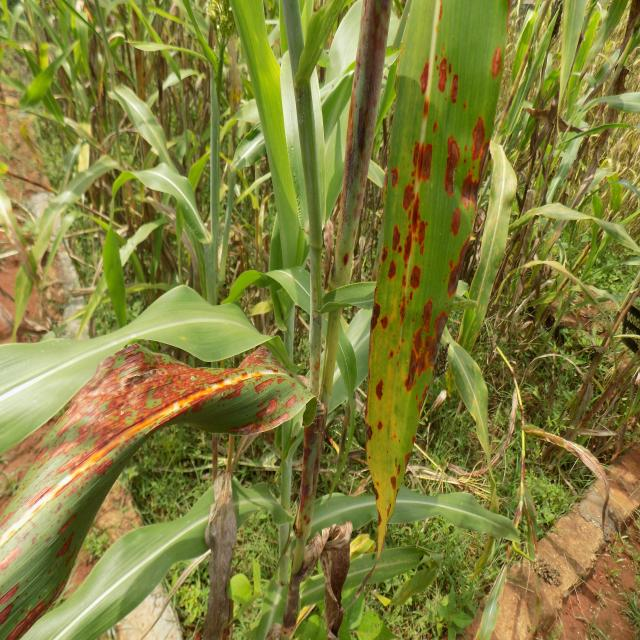millet_healthy: (0, 285, 272, 454), (21, 477, 298, 640), (231, 0, 325, 262), (99, 161, 222, 325), (308, 486, 526, 550), (439, 330, 501, 499)
millet_rust: (0, 343, 313, 639), (366, 0, 509, 548), (0, 285, 270, 454)
